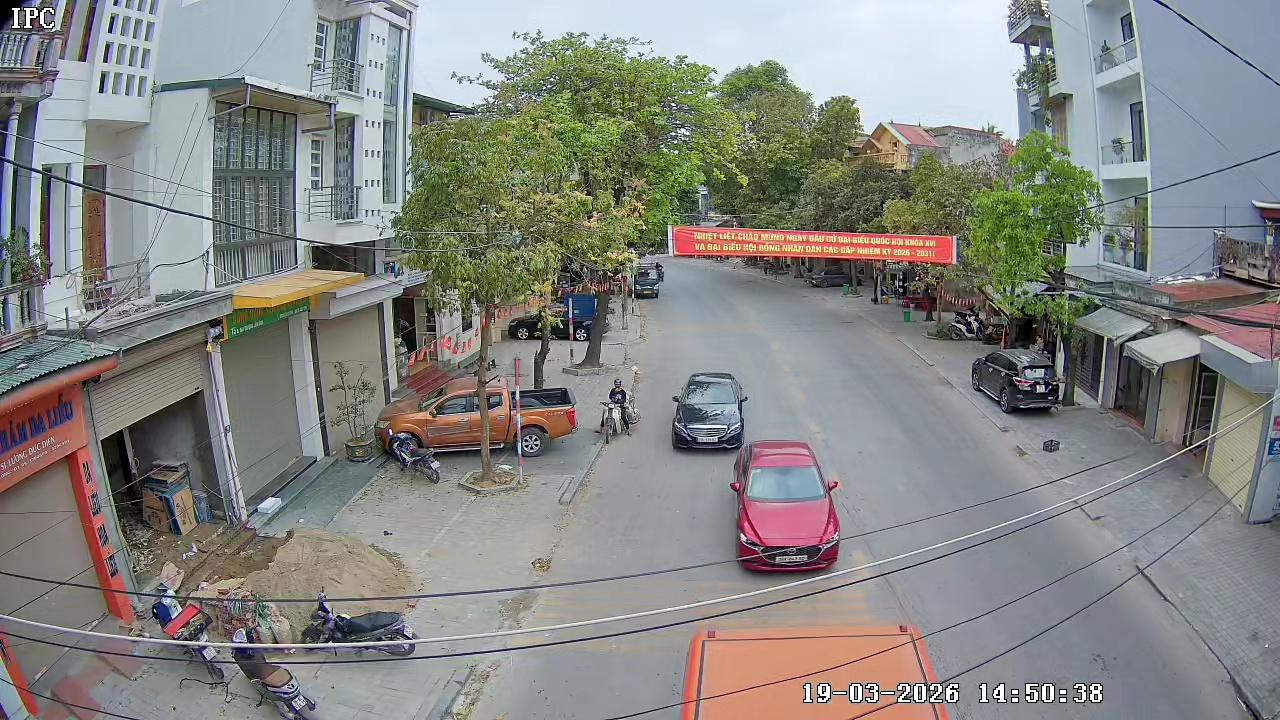car: (730, 439, 840, 575), (671, 369, 751, 452), (513, 383, 577, 456)
motorbike: (593, 381, 619, 445)
